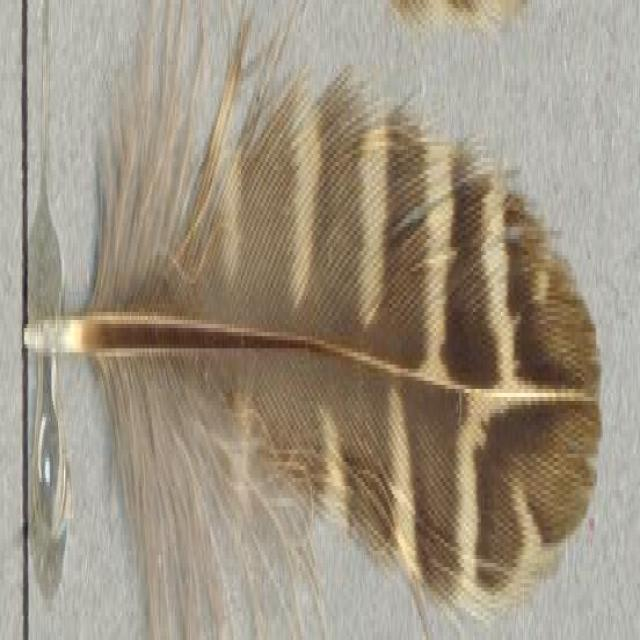feather: (25, 0, 605, 640)
